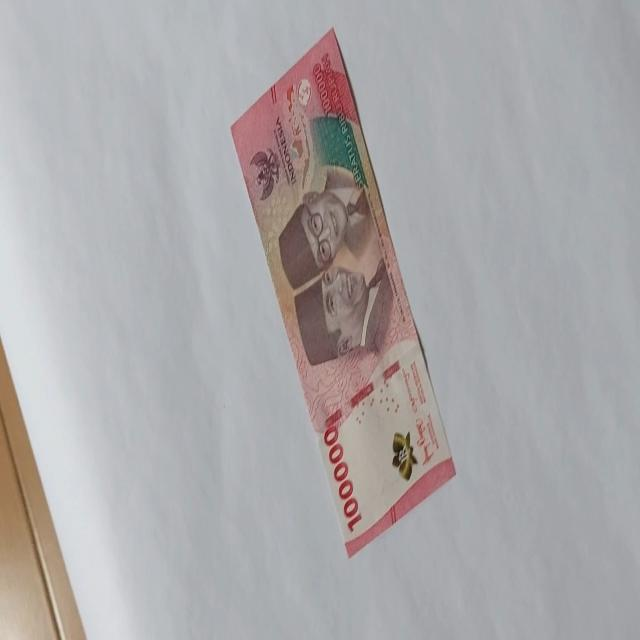seratus ribu rupiah: (229, 25, 457, 558)
